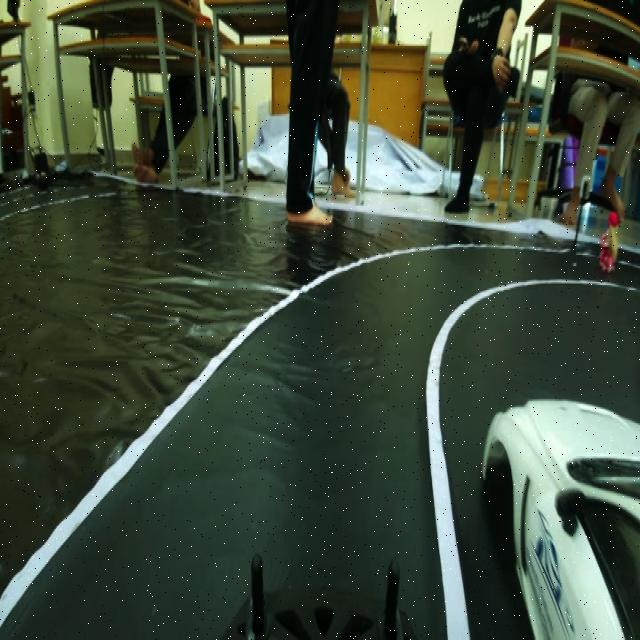car: (496, 355, 640, 640)
